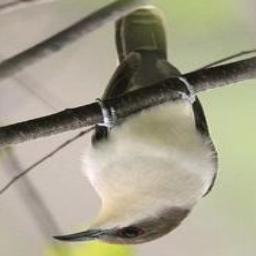Cuckoo: (51, 5, 220, 247)
